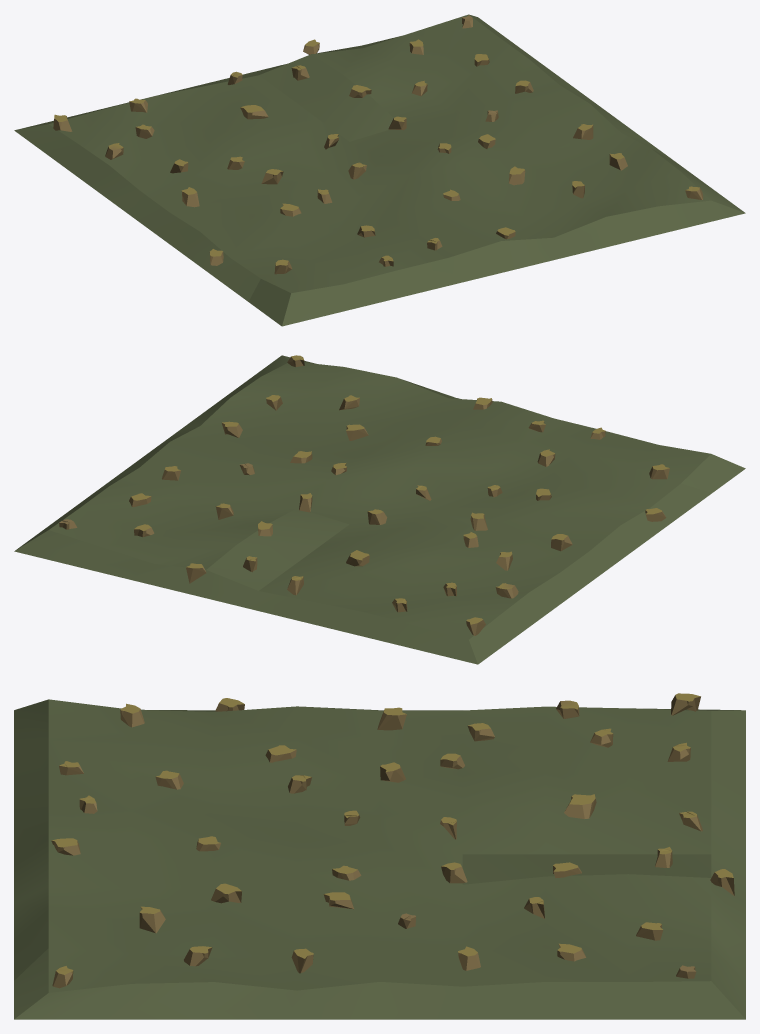
Rendered from shopped16x16.FBX.
3 renders of one model, top to bottom at view 1: azimuth 30°, elevation 25°; view 2: azimuth 150°, elevation 25°; view 3: azimuth 270°, elevation 25°, orthographic. The views are drawn at different scales.
Parts seen in each view (by area): view 1: Plane006; view 2: Plane006; view 3: Plane006.
Part boxes in pixels (x1=…): Plane006: x1=14, y1=14, x2=745, y2=326; Plane006: x1=14, y1=355, x2=745, y2=664; Plane006: x1=14, y1=693, x2=745, y2=1019.
Bounding box in the file's own units: 17.67 × 17.67 × 0.8751.
